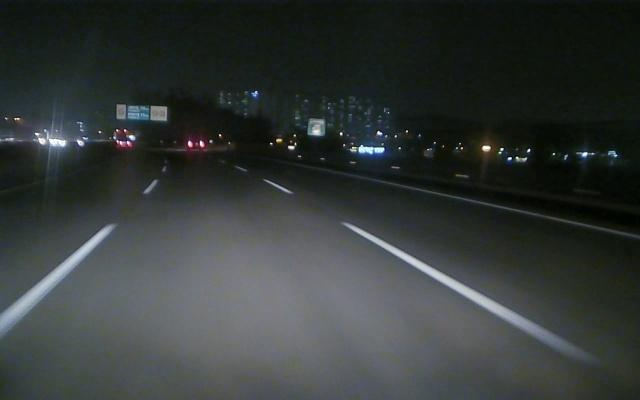lane: (269, 180, 601, 368), (2, 180, 159, 337), (353, 173, 640, 242)
